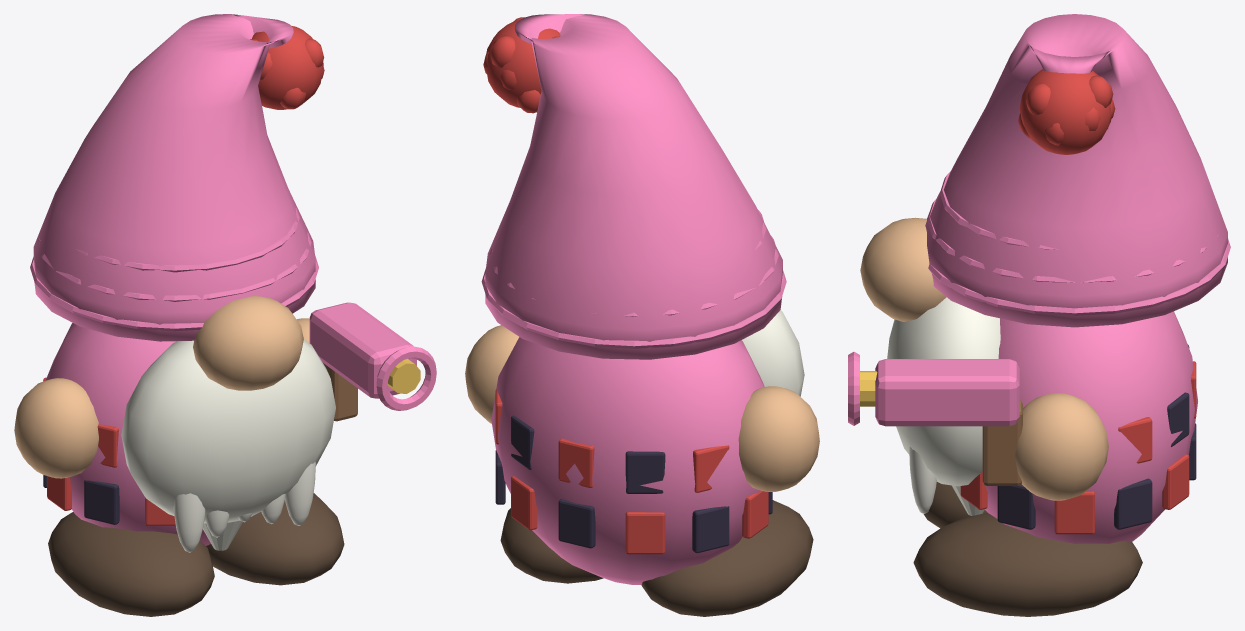
Rendered from gnome-stun.glb.
The picture shows the model from 3 angles, left to right: view 1: azimuth 30°, elevation 25°; view 2: azimuth 150°, elevation 25°; view 3: azimuth 270°, elevation 25°; orthographic projection. The views are drawn at different scales.
Parts seen in each view (by area): view 1: gnome-stun; view 2: gnome-stun; view 3: gnome-stun.
Part boxes in pixels (x1,y1,x2,y2): gnome-stun: [14, 14, 436, 616]; gnome-stun: [465, 14, 819, 616]; gnome-stun: [848, 14, 1230, 616].
Bounding box in the file's own units: 0.95 × 1.46 × 0.9009.
